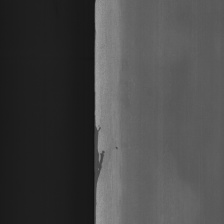water_spot: (87, 93, 108, 218)
